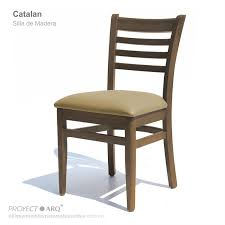tiyarina: (49, 7, 192, 208)
